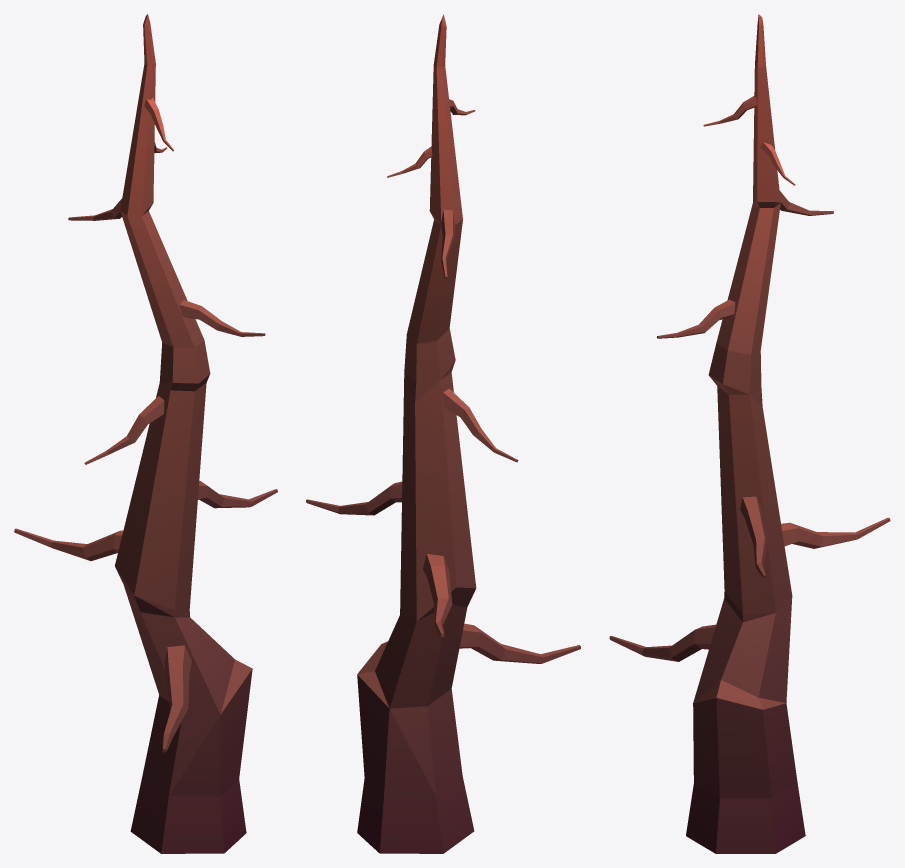
The model's file is pine4.glb.
3 renders of one model, left to right at view 1: azimuth 30°, elevation 25°; view 2: azimuth 150°, elevation 25°; view 3: azimuth 270°, elevation 25°, orthographic. The views are drawn at different scales.
Parts seen in each view (by area): view 1: pine4; view 2: pine4; view 3: pine4.
Boxes of the visible parts, x1=… form: pine4: x1=14, y1=14, x2=277, y2=853; pine4: x1=306, y1=14, x2=580, y2=853; pine4: x1=609, y1=14, x2=890, y2=853.
Bounding box in the file's own units: 2.29 × 8.96 × 2.84.
1 material, 1 textured.
